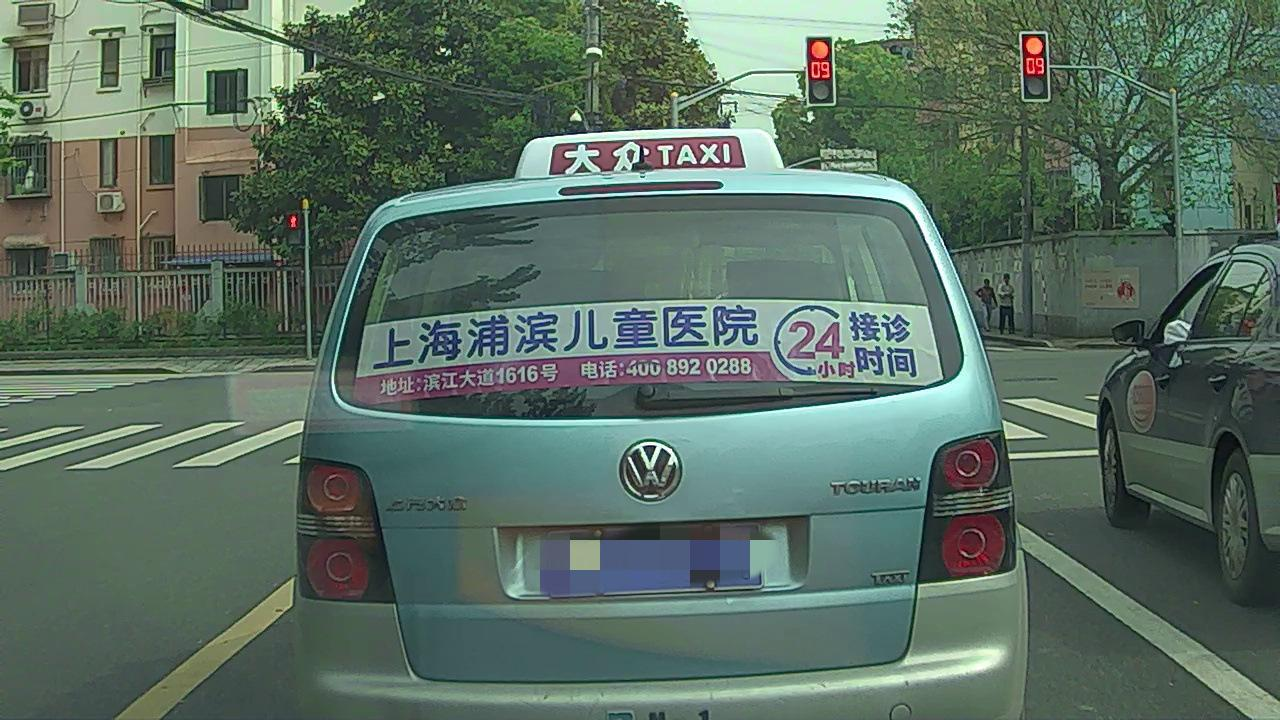traffic_light: (804, 38, 835, 106), (1023, 34, 1049, 99)
